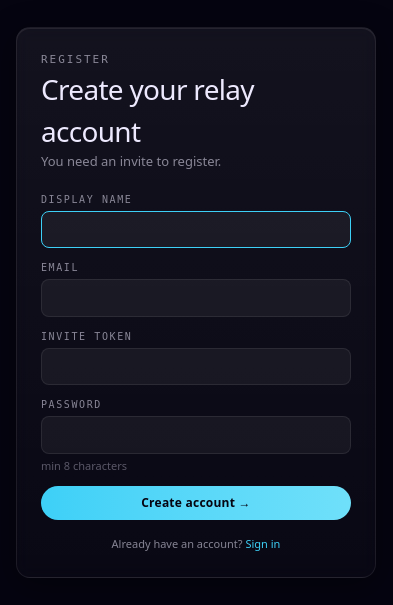
Test: shows an inline invite error on 400
In the field labelled "Display name": point(196, 229) top-left (41, 210), bottom-right (351, 248), type "Ada"
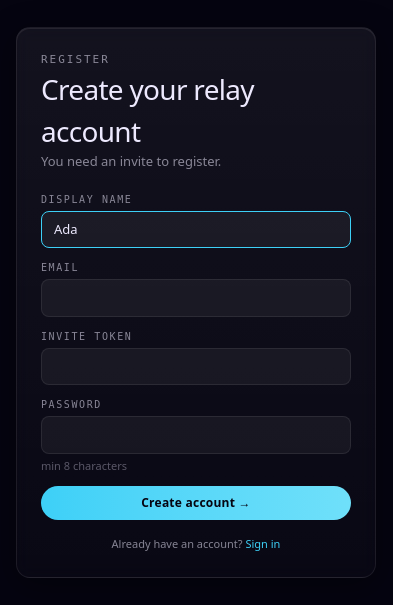
In the field labelled "Email": point(196, 298) top-left (41, 279), bottom-right (351, 316), type "ada@studio.dev"
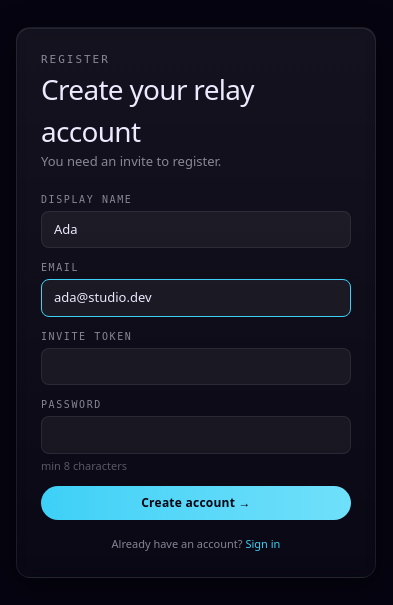
In the field labelled "Invite token": point(196, 366) top-left (41, 348), bottom-right (351, 385), type "rl_invt_x"
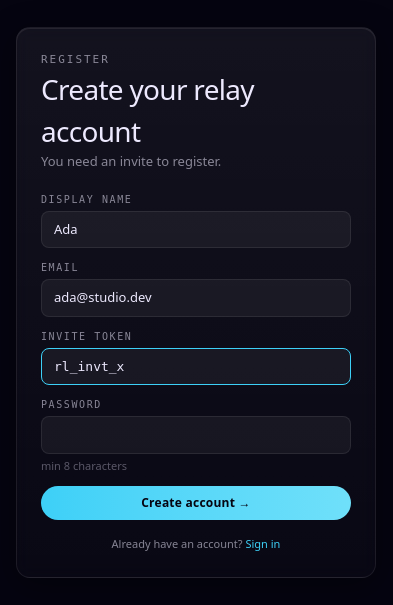
In the password field labelled "Password": point(196, 435) top-left (41, 416), bottom-right (351, 454), type "password1"
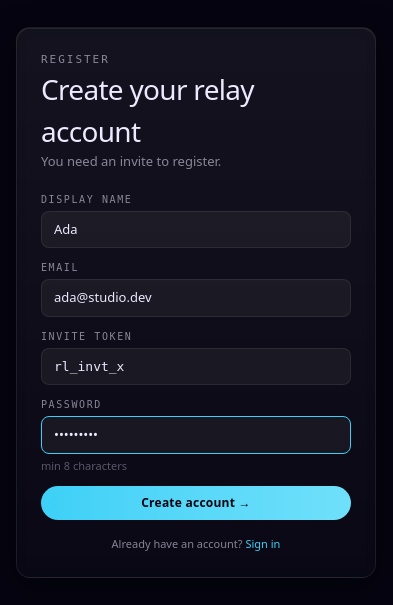
Click the button "Create account →": point(196, 503) top-left (41, 486), bottom-right (351, 520)
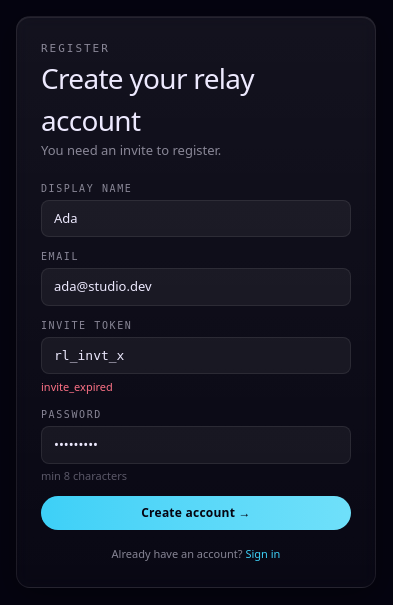
Check: the text "invite_expired" is shown, box top-left (41, 379), bottom-right (113, 394)
